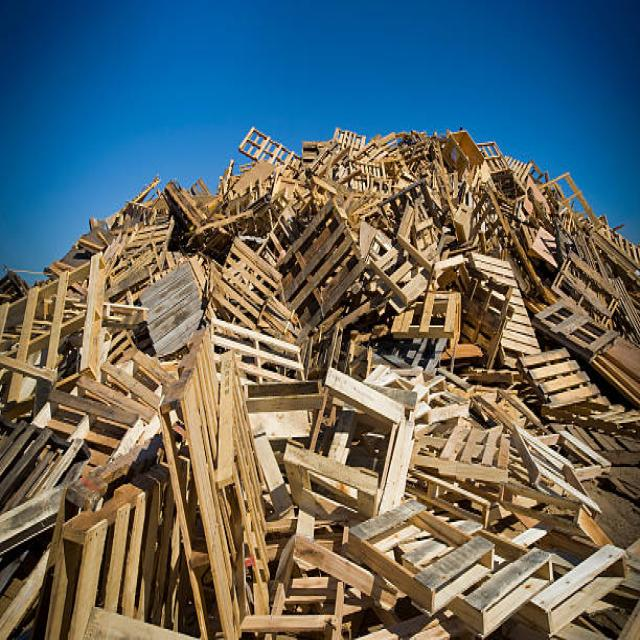cardboard: (1, 168, 592, 616)
